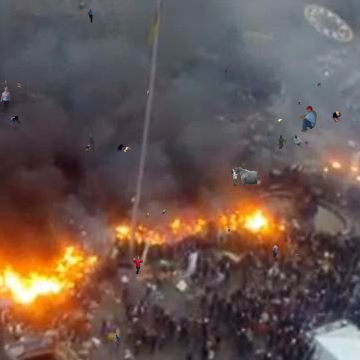Human: (115, 256, 144, 274), (297, 106, 317, 132), (231, 167, 257, 186), (278, 134, 303, 149), (0, 87, 11, 115), (9, 116, 24, 136), (85, 134, 95, 152), (117, 143, 131, 152), (331, 111, 341, 123), (85, 9, 93, 23), (272, 245, 278, 260), (113, 335, 120, 343), (17, 82, 22, 92), (295, 100, 304, 105), (304, 141, 310, 146), (162, 209, 167, 214), (278, 119, 282, 124), (317, 82, 321, 87), (146, 212, 149, 218), (296, 254, 299, 258), (5, 80, 7, 86), (93, 346, 95, 352), (224, 70, 227, 74), (345, 147, 349, 150), (268, 133, 270, 138), (147, 90, 149, 95), (242, 212, 244, 217), (228, 227, 230, 232), (2, 81, 4, 86)
